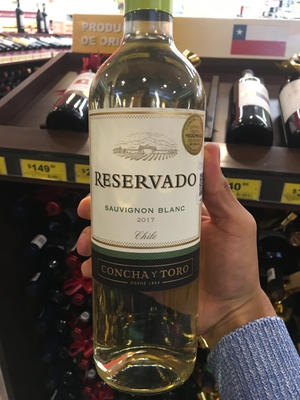reservado sauvignon blanc: (86, 17, 206, 400)
